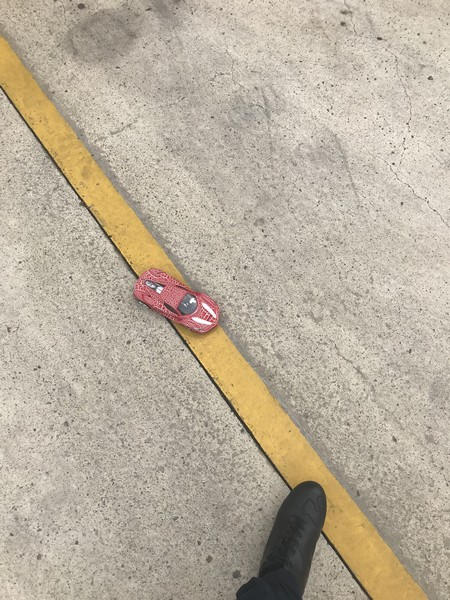RC: (131, 266, 223, 335)
